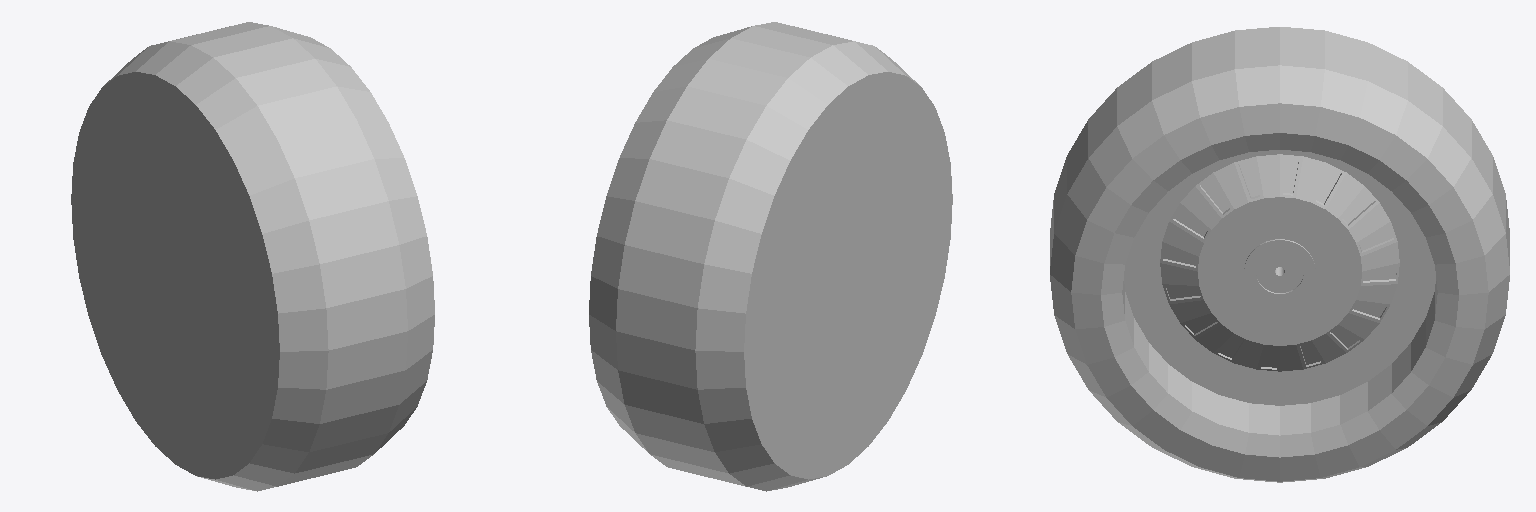
The model's file is WheelCar5_FAlt.obj.
The picture shows the model from 3 angles: view 1: azimuth 30°, elevation 25°; view 2: azimuth 150°, elevation 25°; view 3: azimuth 270°, elevation 25°; orthographic projection.
Parts seen in each view (by area): view 1: wheel; view 2: wheel; view 3: wheel.
Boxes of the visible parts, box(x1,y1,x2,y2) form: wheel: box(71, 22, 434, 491); wheel: box(589, 22, 952, 491); wheel: box(1050, 27, 1509, 482).
Size of the model in its own units: 0.7302 by 1.81 by 1.81.